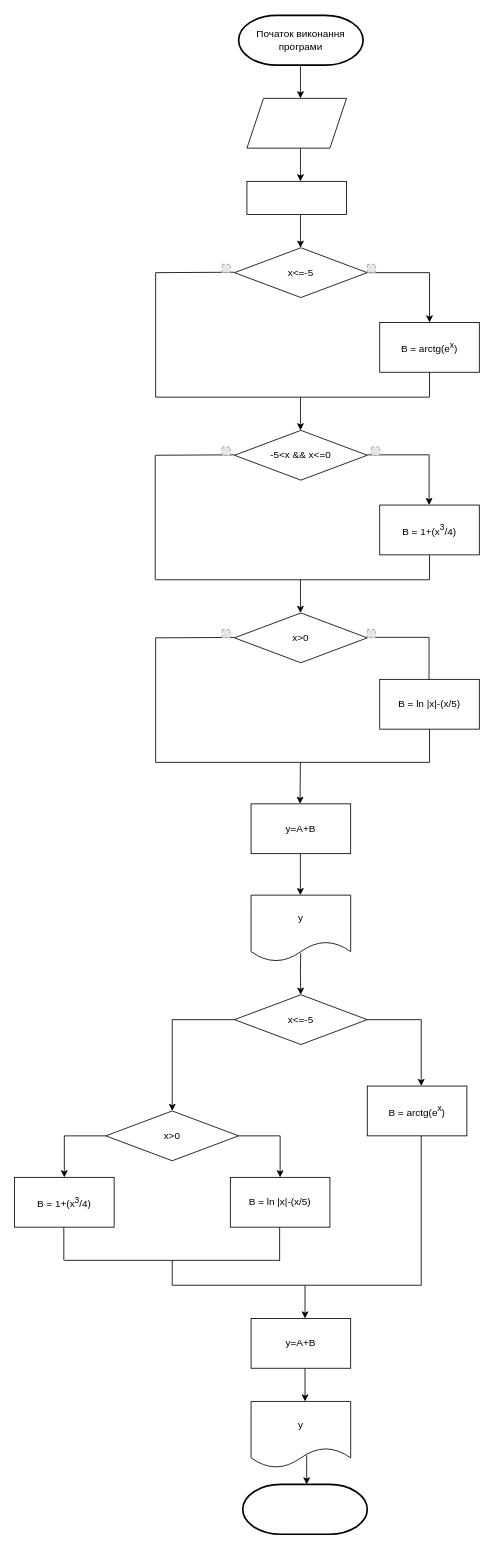
Some shapes in this 494 by 1549 pixel diagram are drawn without their labels. Grey dashed boxes stand in for pictures. The shapes that lost their labels are listed below. From the top down, each one's centre as x and y in pixels, then its label:
At (x=296, y=123): "Значення x".
At (x=296, y=198): "A=x 2 sin(x/2)".
At (x=305, y=1509): "Кінець".
